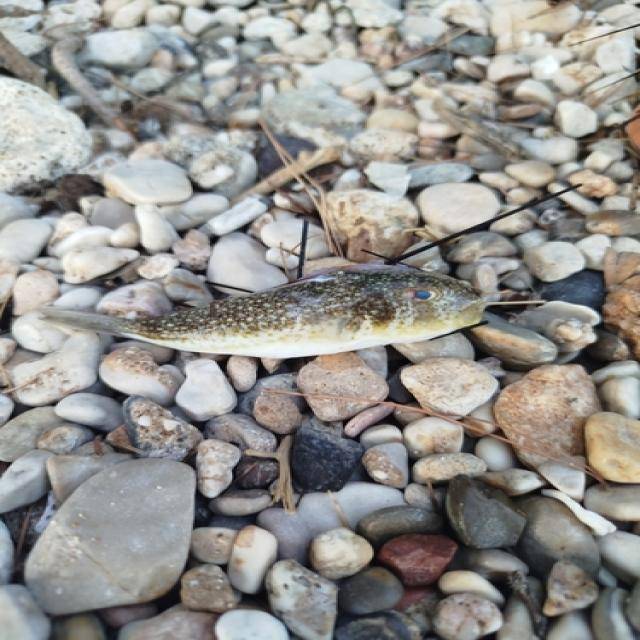Balik: (41, 265, 486, 358)
